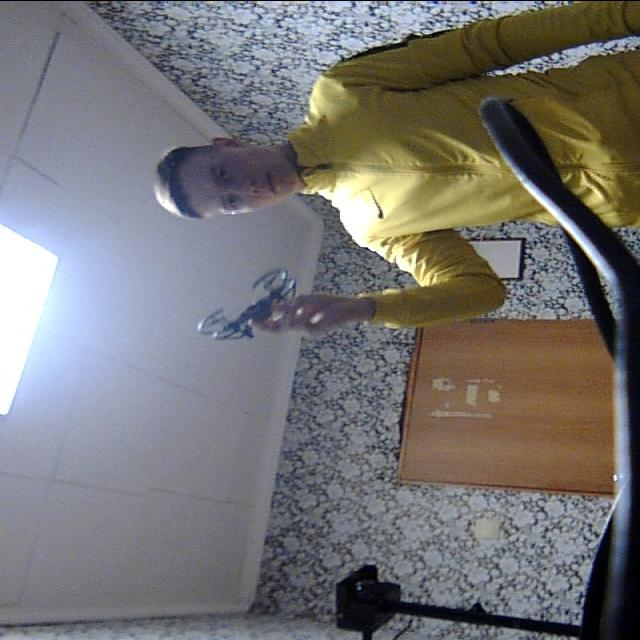drone: (192, 260, 314, 352)
